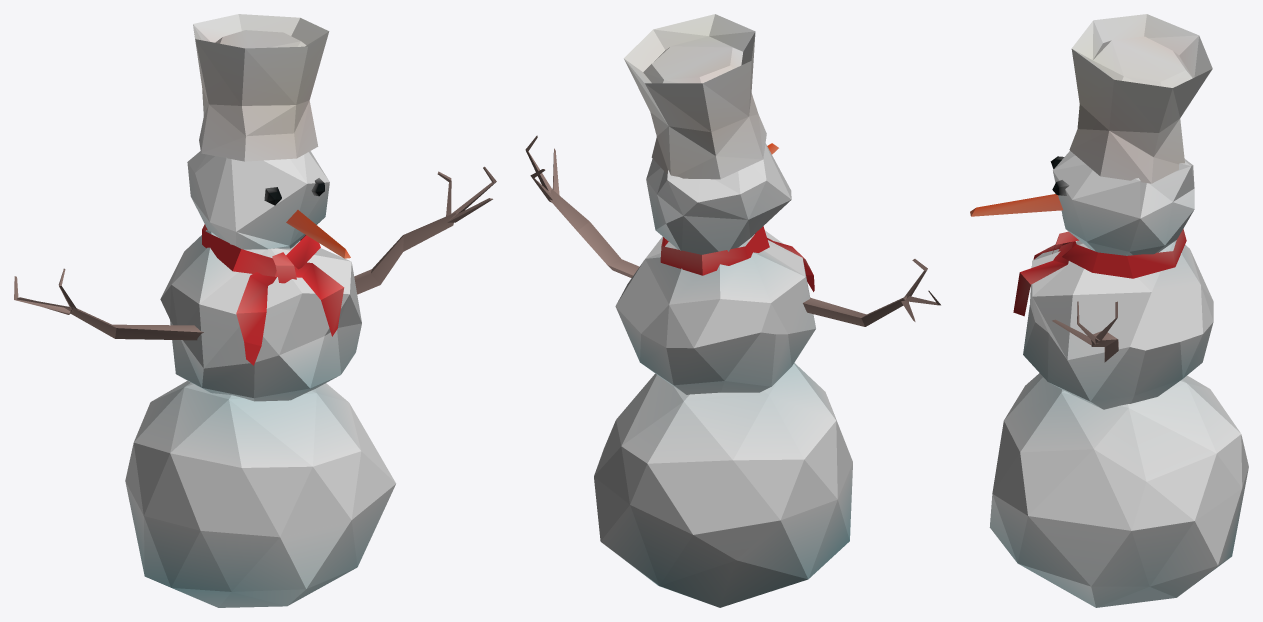
The model's file is sm_snow_man_hat_0.fbx.
3 renders of one model, left to right at view 1: azimuth 30°, elevation 25°; view 2: azimuth 150°, elevation 25°; view 3: azimuth 270°, elevation 25°, orthographic. The views are drawn at different scales.
Visible parts, largest first — view 1: sm_snow_man_hat_0; view 2: sm_snow_man_hat_0; view 3: sm_snow_man_hat_0.
Boxes of the visible parts, left/top/right/bottom form: sm_snow_man_hat_0: left=14, top=14, right=496, bottom=607; sm_snow_man_hat_0: left=525, top=14, right=940, bottom=607; sm_snow_man_hat_0: left=970, top=14, right=1248, bottom=607.
Bounding box in the file's own units: 329 × 280 × 149.
